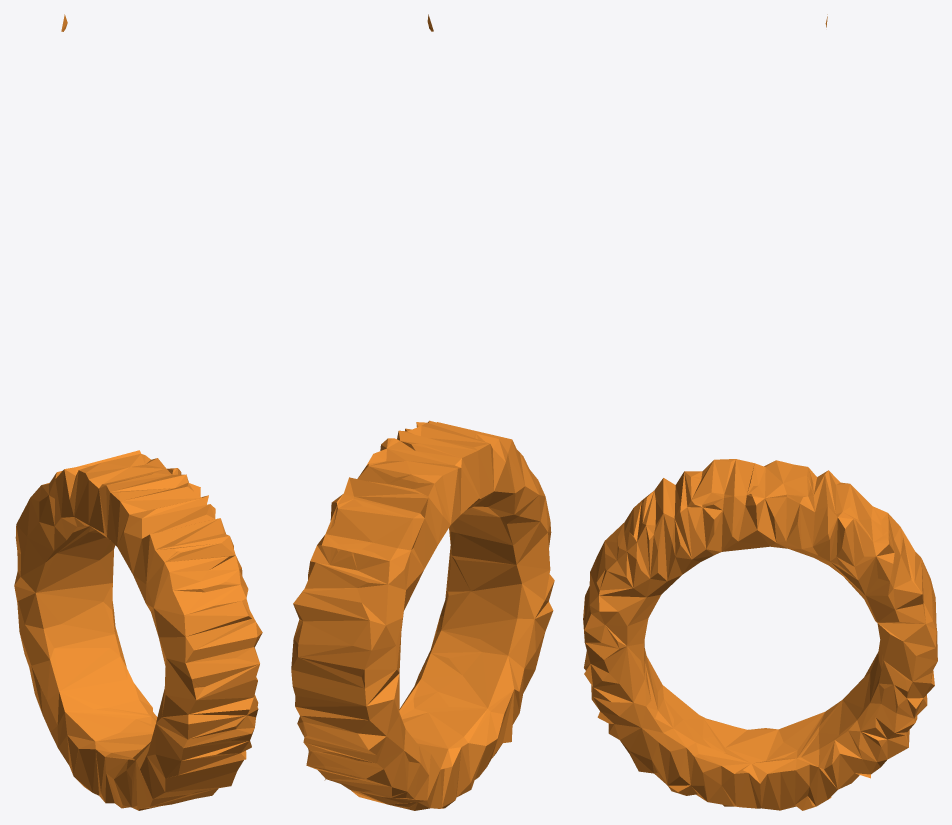
File: valve-1.glb
The picture shows the model from 3 angles, left to right: view 1: azimuth 30°, elevation 25°; view 2: azimuth 150°, elevation 25°; view 3: azimuth 270°, elevation 25°; orthographic projection. The views are drawn at different scales.
Visible parts, largest first — view 1: part_01; view 2: part_01; view 3: part_01.
Part boxes in pixels (x1,y1,x2,y2): part_01: (14, 14, 262, 810); part_01: (291, 14, 554, 810); part_01: (583, 14, 937, 810).
Bounding box in the file's own units: 0.0826 × 0.6385 × 0.2694.
